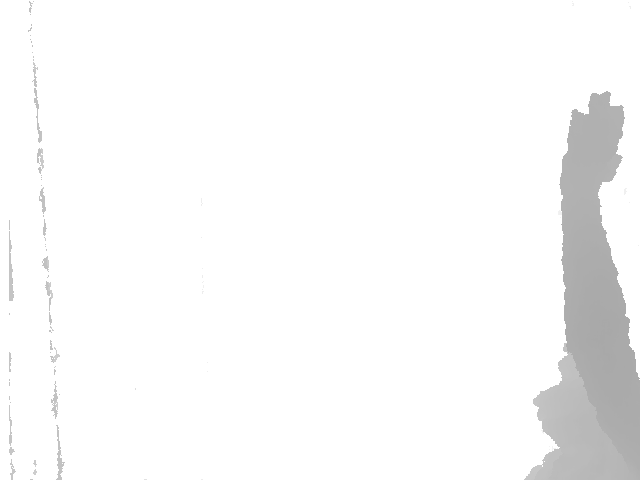hand: (560, 92, 625, 187)
person: (532, 89, 639, 479)
